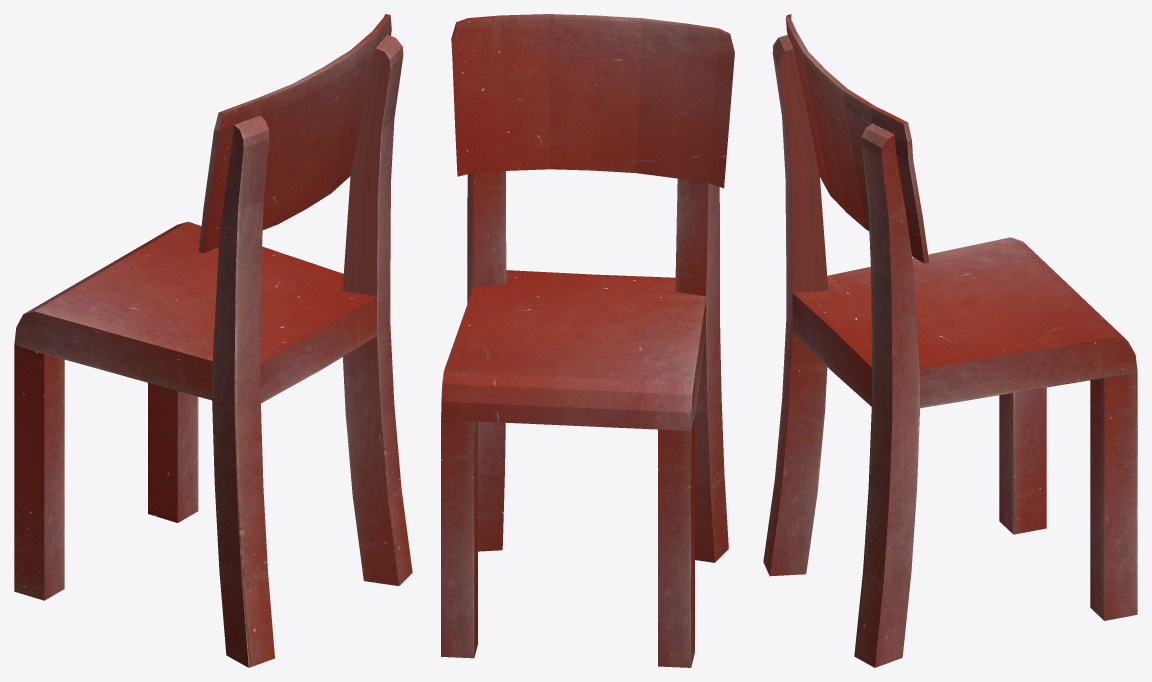
The model's file is zidle_cervena.glb.
3 renders of one model, left to right at view 1: azimuth 30°, elevation 25°; view 2: azimuth 150°, elevation 25°; view 3: azimuth 270°, elevation 25°, orthographic. The views are drawn at different scales.
Visible parts, largest first — view 1: zidle_cervena.001; view 2: zidle_cervena.001; view 3: zidle_cervena.001.
Boxes of the visible parts, x1,y1,x2,y2 form: zidle_cervena.001: (14,14,412,667); zidle_cervena.001: (441,14,734,667); zidle_cervena.001: (763,14,1137,667).
Size of the model in its own units: 0.5523 by 0.9143 by 0.5717.
Materials: 1 (1 with a texture image).
